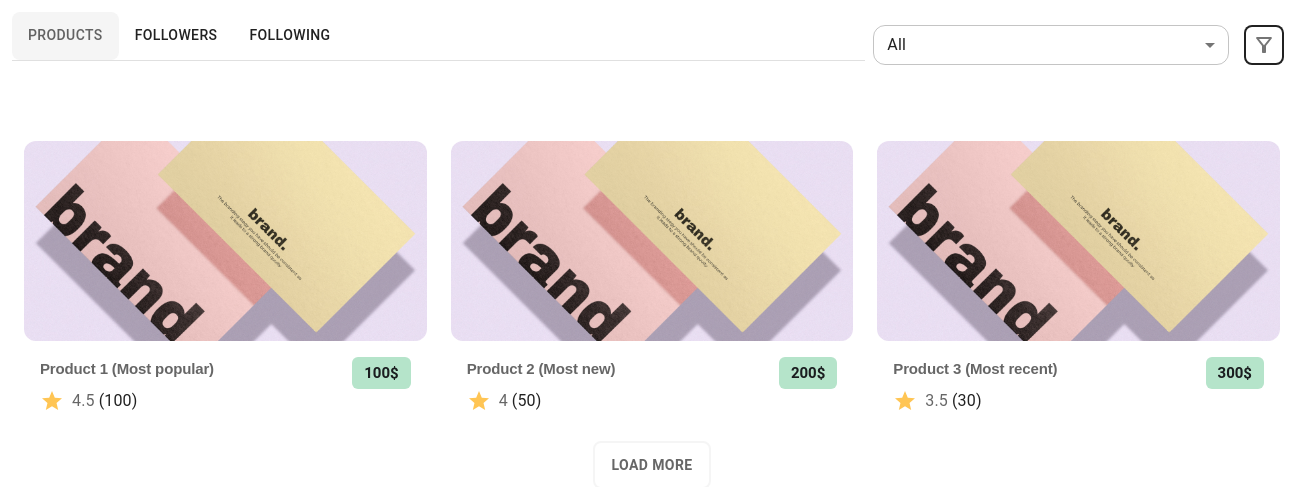
Scenario: ShopContent Test › hidden products tab when click change tab correctly
Click the tab "Following".
click(290, 36)  # box [233,12,346,60]
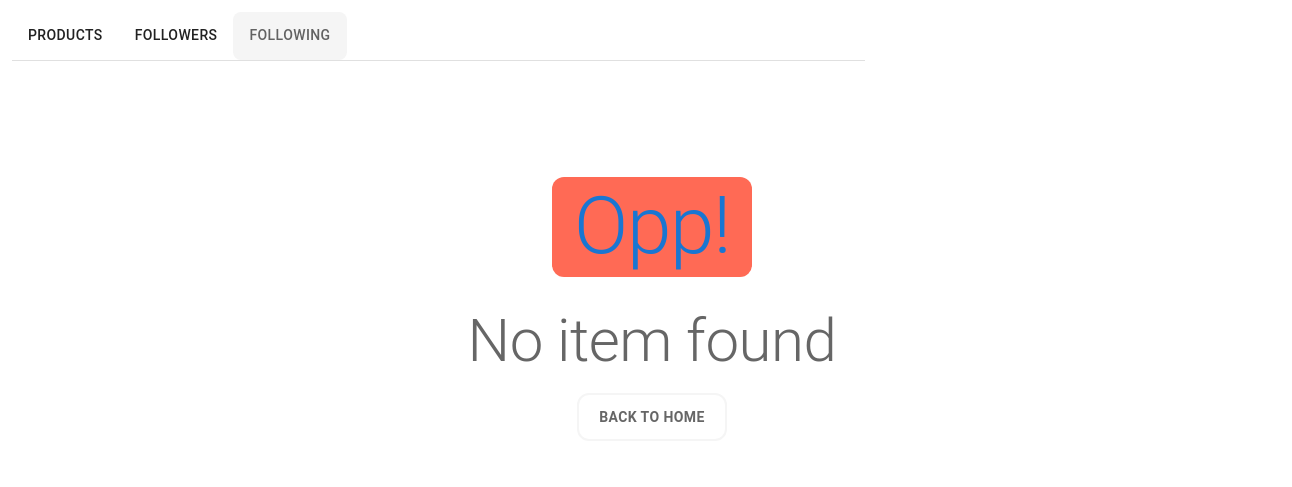
Expected: the button "Product 1 (Most popular)" is gone
Expected: the button "Product 2 (Most new)" is gone
